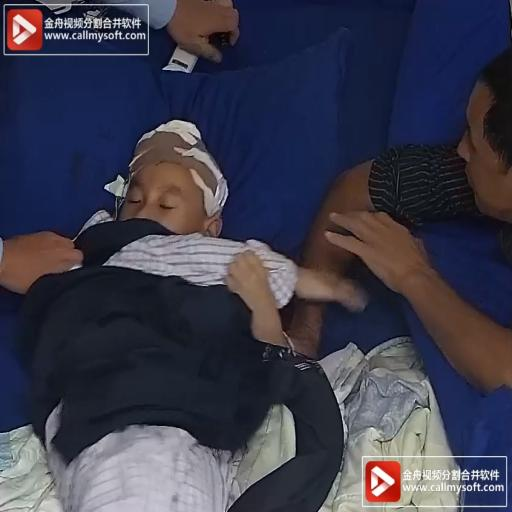Seizure: (120, 154, 232, 230)
